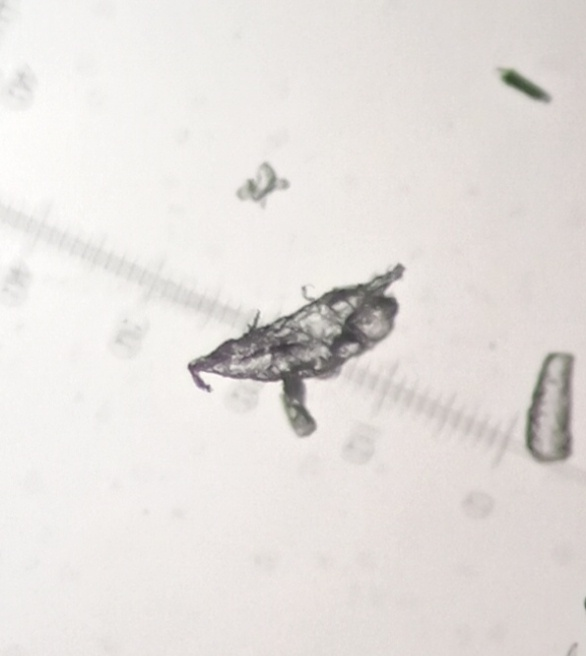microplastic: (164, 257, 411, 451), (518, 334, 577, 479), (236, 162, 298, 212), (495, 67, 557, 113)
